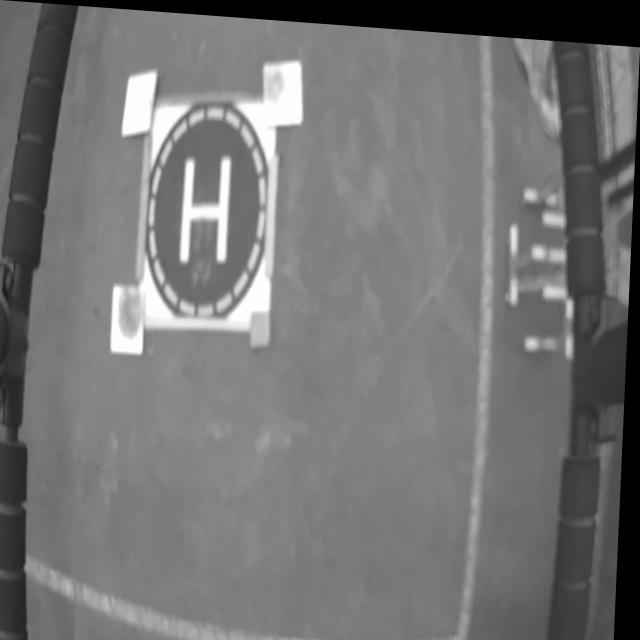Helipad: (182, 152, 232, 260)
